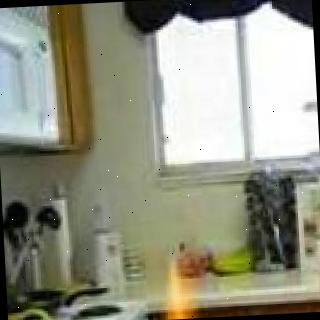fire: (127, 265, 256, 320)
